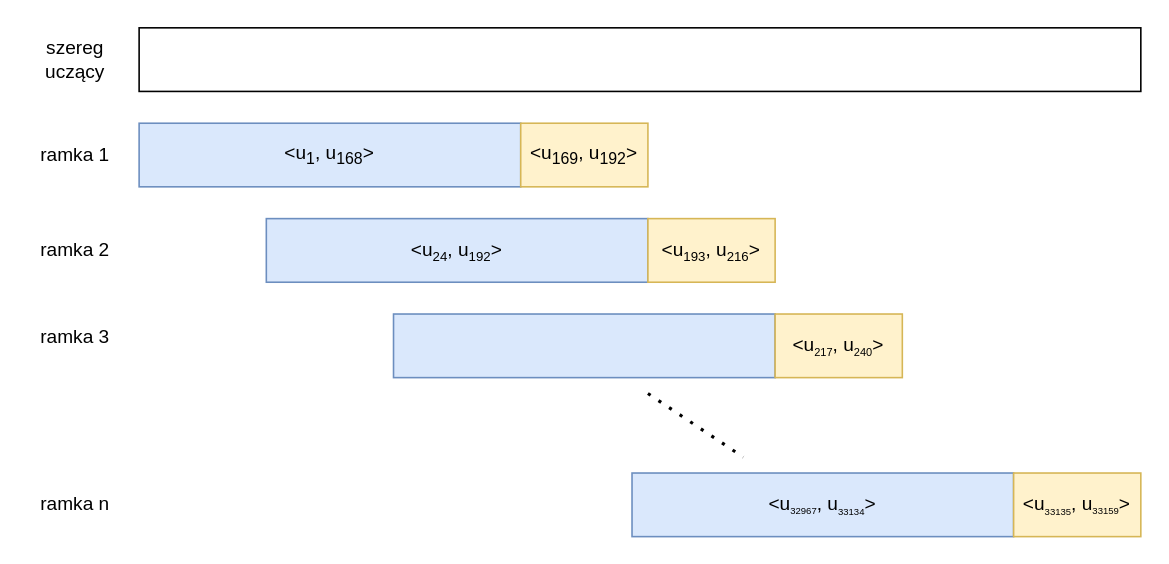
This 1169x564 diagram has some shape labels left out. The shapes that lost their labels are listed below. From the top down, each one's centre as x and y in pixels, then its label:
At point 639,58: "{u 1, u2, u3, ... , u33158, u33159}".
At point 583,345: "<u 48 , u 216 >".
